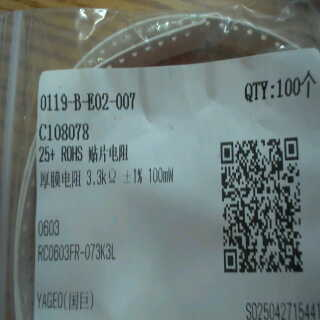3.3kO: (81, 162, 124, 189)
